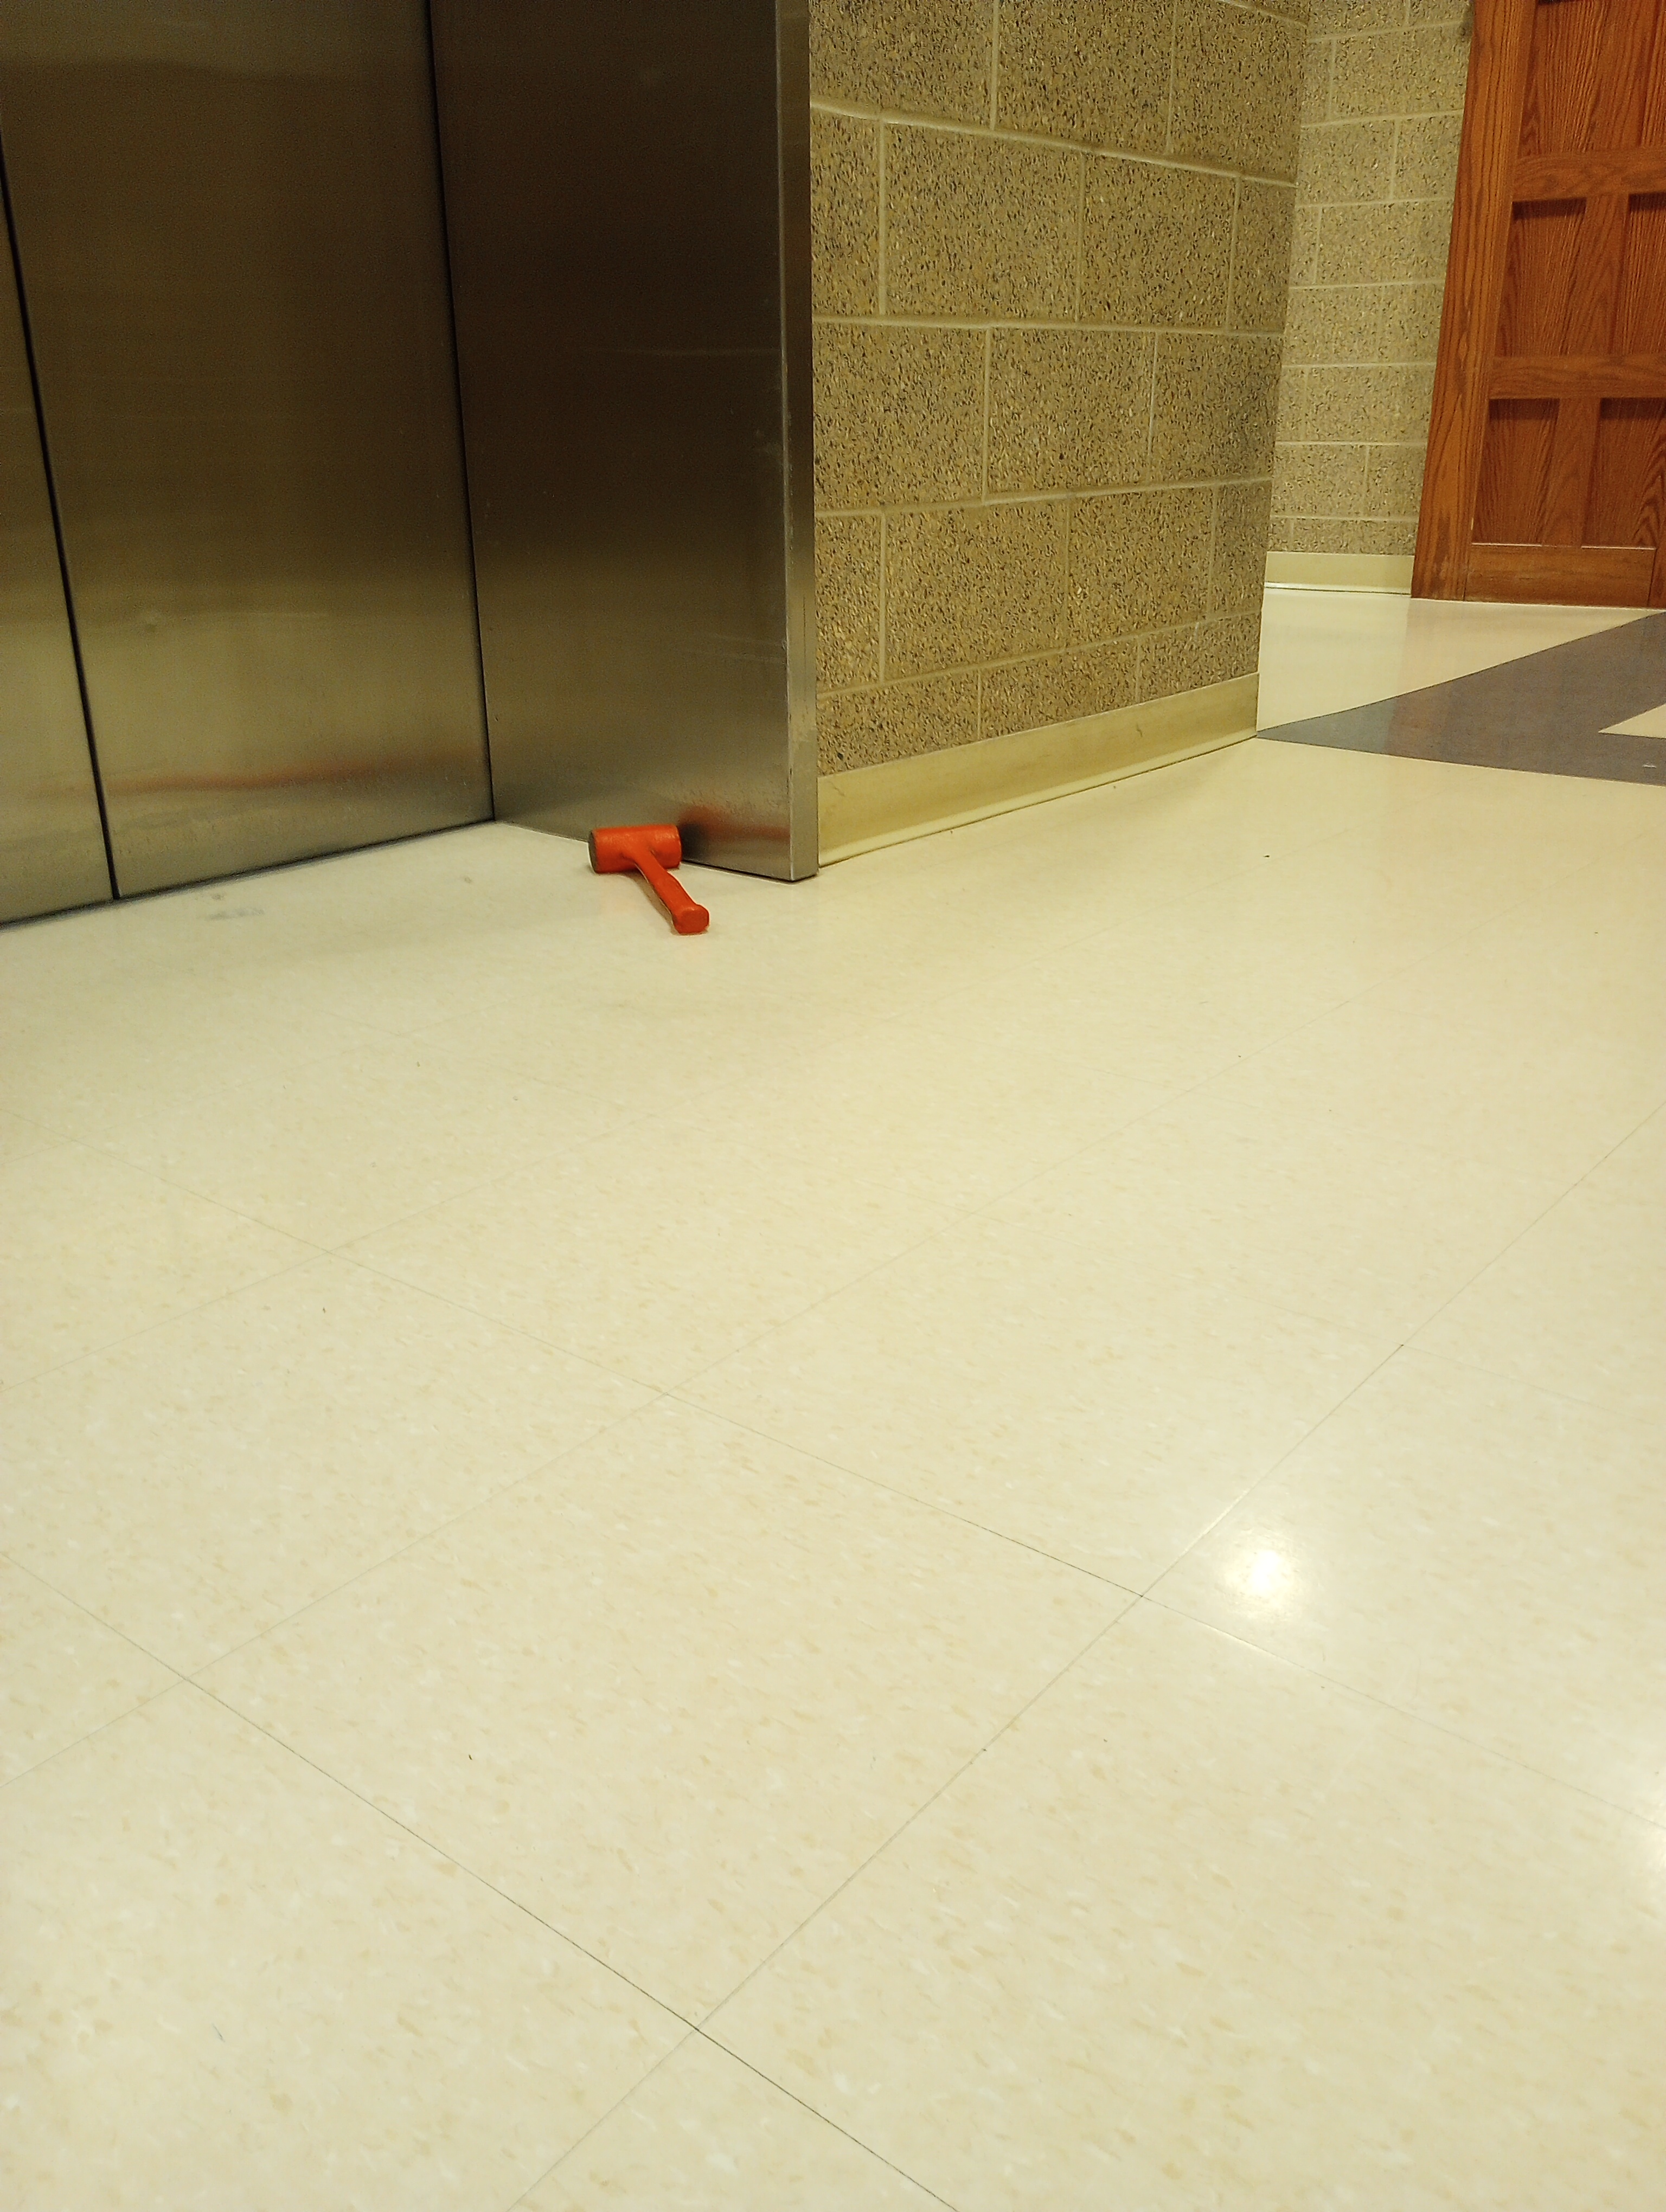hammer: (583, 790, 716, 958)
